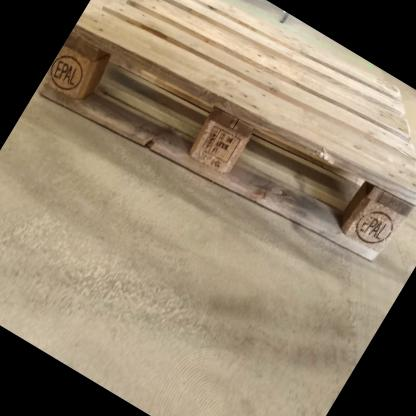BoxFace: (34, 0, 416, 269)
